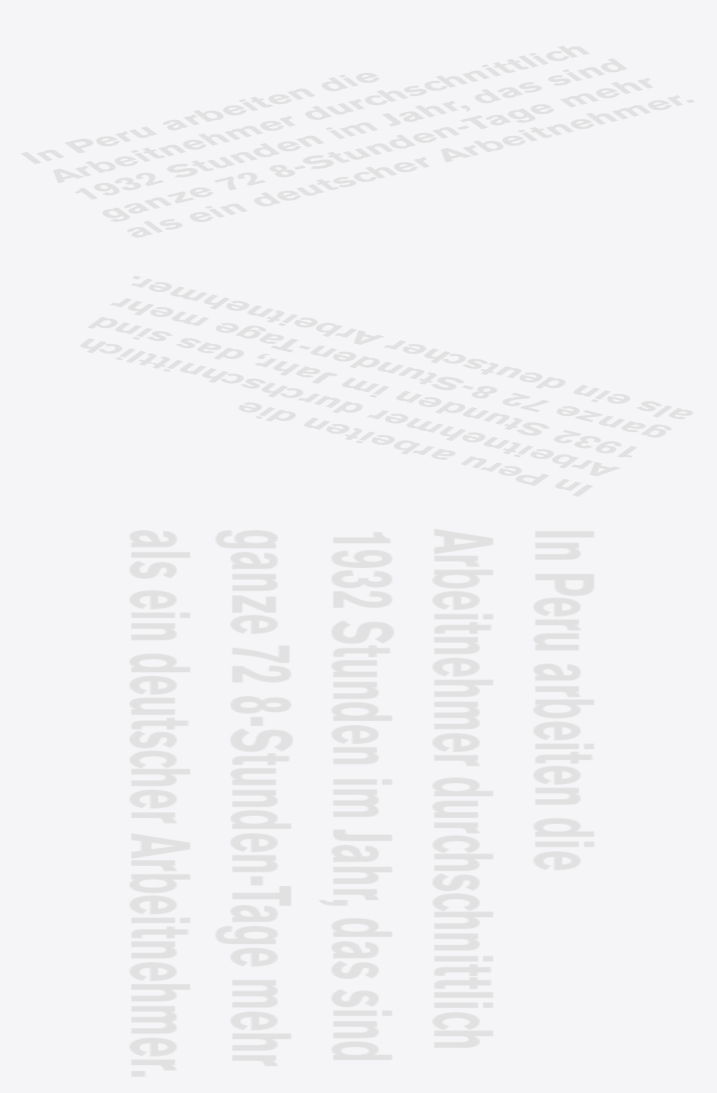
File: privileged-iii-Fakten2.glb
3 renders of one model, top to bottom at view 1: azimuth 30°, elevation 25°; view 2: azimuth 150°, elevation 25°; view 3: azimuth 270°, elevation 25°, orthographic. The views are drawn at different scales.
Visible parts, largest first — view 1: 2; view 2: 2; view 3: 2.
Boxes of the visible parts, <box> form: 2: <box>20,46,694,237</box>; 2: <box>80,275,693,496</box>; 2: <box>129,528,594,1076</box>.
Size of the model in its own units: 1.89 by 0 by 0.7223.
Materials: 1 (1 with a texture image).
